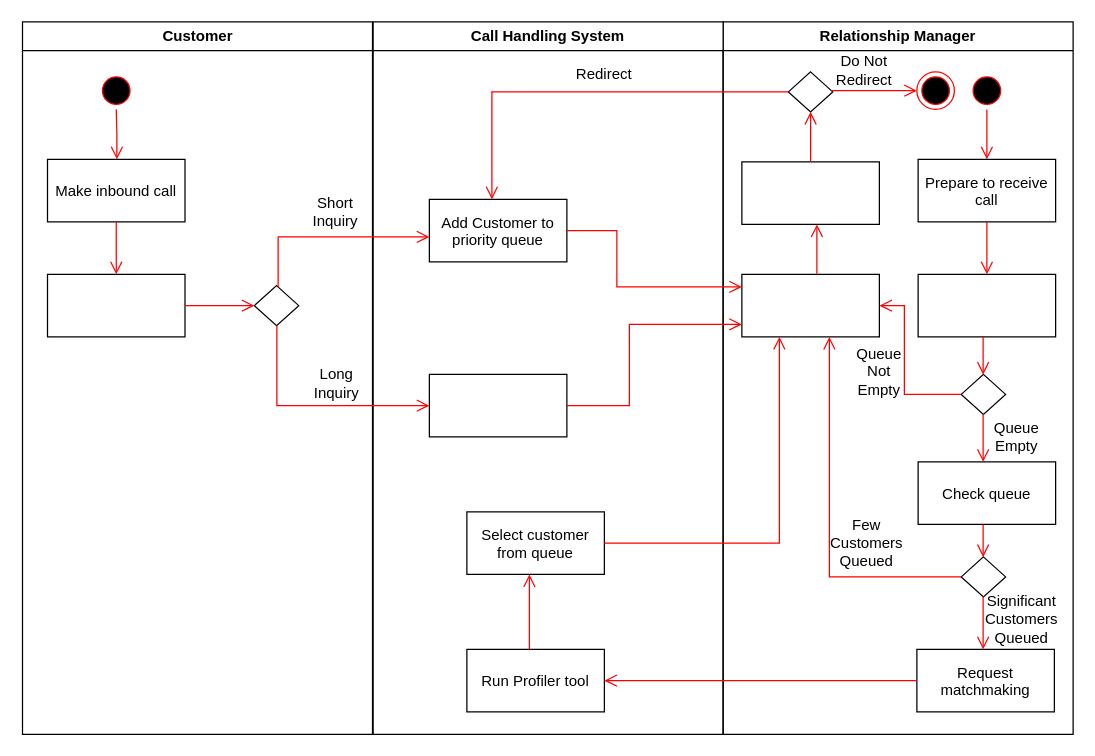
The diagram is 1095 pixels wide and 756 high, and some of its shapes have lost their labels. The box of each missing label's shape, as (x1, y1, x2, y2) in pixels:
Add Customer to queue: (428, 373, 567, 437)
Check priority queue: (917, 273, 1056, 337)
Choose inquiry type: (46, 273, 185, 337)
End Call: (741, 161, 879, 224)
Receive Call: (741, 273, 879, 337)
